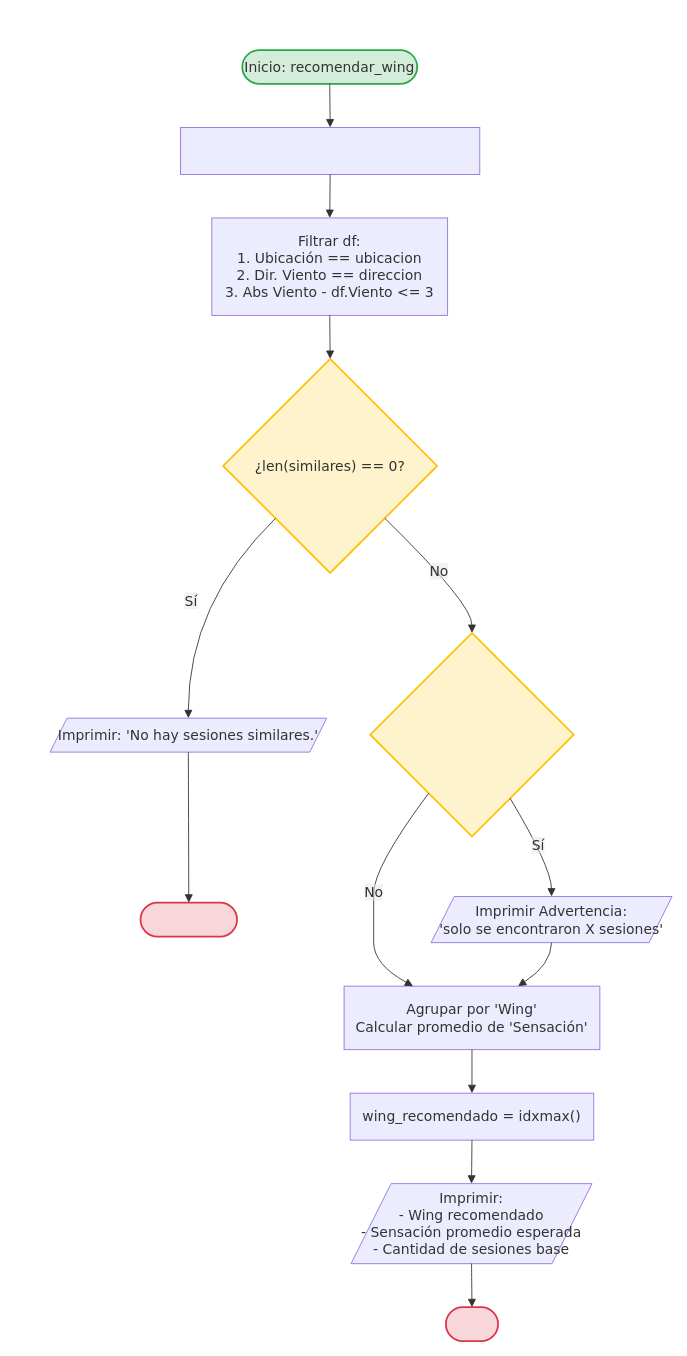
Some shapes in this 687 by 1356 pixel diagram are drawn without their labels. Here are the shapes that lost their labels. From the top down, the box of each, then its label:
(180, 127, 480, 174): Recibe: df, ubicacion, viento, direccion
(369, 632, 574, 837): ¿len(similares) < 3?
(139, 901, 238, 937): Fin / Return
(445, 1306, 499, 1342): Fin
